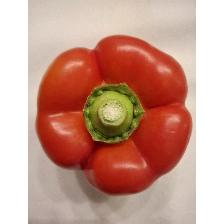Paprika: (32, 32, 196, 198)
